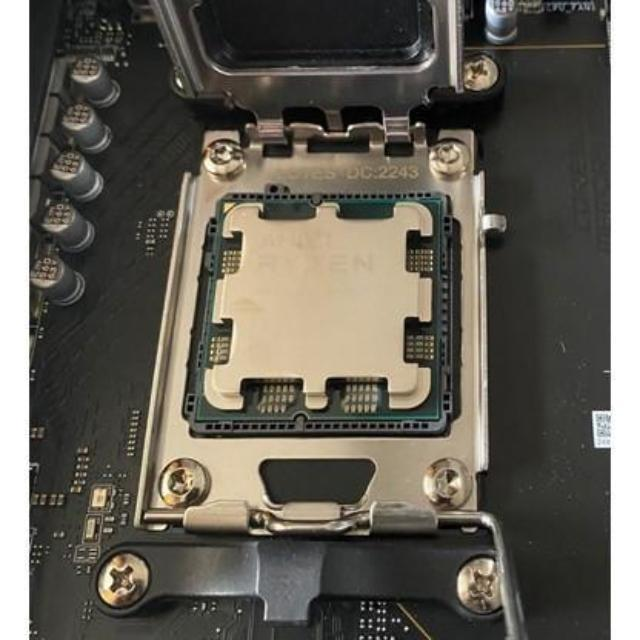CPU: (207, 197, 439, 417)
